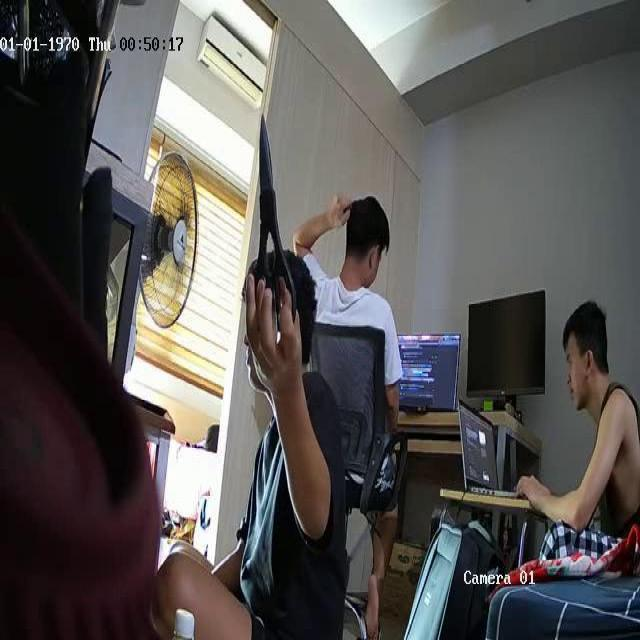scissor: (255, 112, 298, 331)
